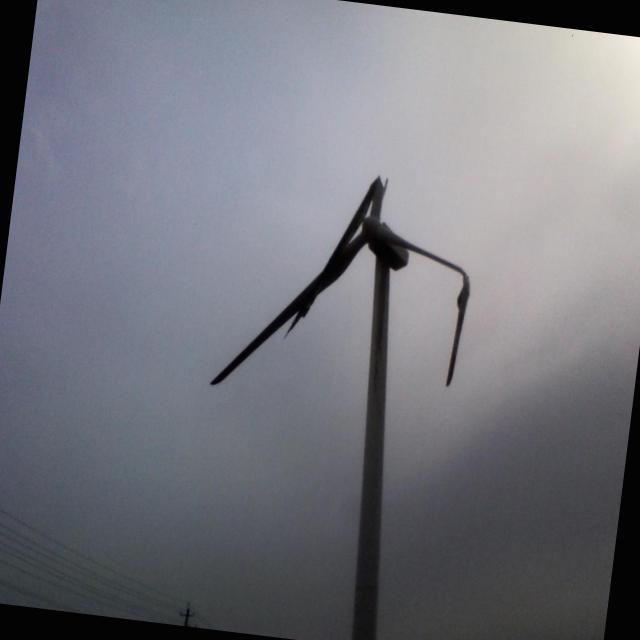crack: (298, 162, 397, 332), (434, 253, 479, 391)
